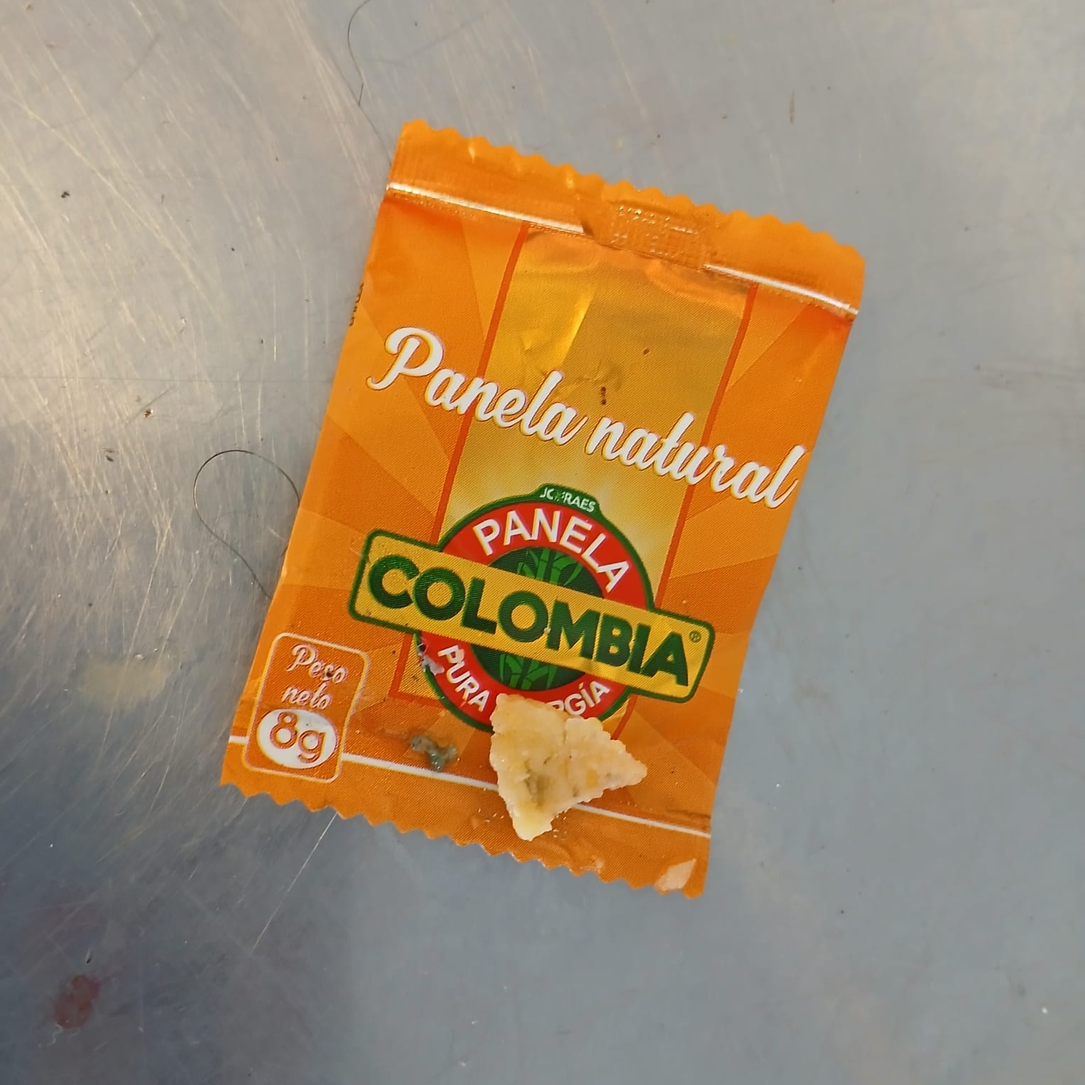Ordinario: (219, 120, 861, 897)
